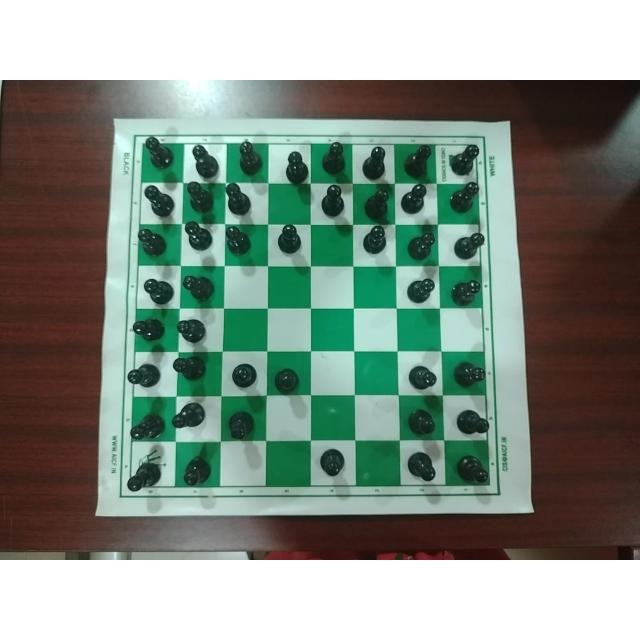black-pawn: (179, 450, 221, 491), (134, 182, 180, 219), (186, 132, 222, 179), (359, 142, 399, 183), (136, 131, 175, 173), (453, 448, 495, 486), (127, 354, 163, 398), (123, 458, 163, 497), (180, 263, 216, 306), (176, 311, 216, 349), (275, 219, 311, 261), (226, 405, 261, 447), (455, 404, 493, 442), (129, 313, 169, 349), (277, 144, 309, 188), (179, 215, 215, 254), (404, 448, 443, 484), (408, 402, 441, 444), (222, 178, 260, 214), (444, 179, 482, 215), (356, 223, 394, 259), (135, 223, 175, 257), (233, 136, 265, 178), (453, 358, 490, 394), (451, 226, 485, 265), (170, 351, 209, 385), (184, 178, 220, 214), (316, 442, 352, 478), (320, 137, 352, 177), (131, 411, 167, 446), (221, 219, 254, 257), (318, 182, 350, 220), (449, 272, 481, 310), (140, 271, 172, 308), (364, 184, 396, 220), (402, 181, 434, 217), (272, 364, 304, 400), (171, 402, 207, 434), (405, 138, 432, 180), (448, 140, 479, 176), (407, 361, 441, 393), (407, 230, 438, 265), (227, 355, 257, 390), (405, 270, 433, 302)
